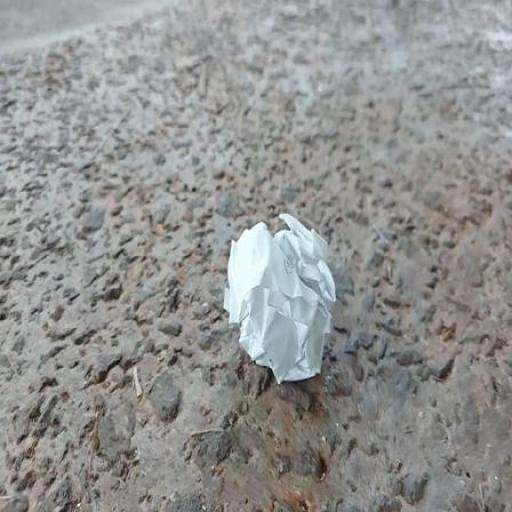paper: (207, 212, 364, 405)
